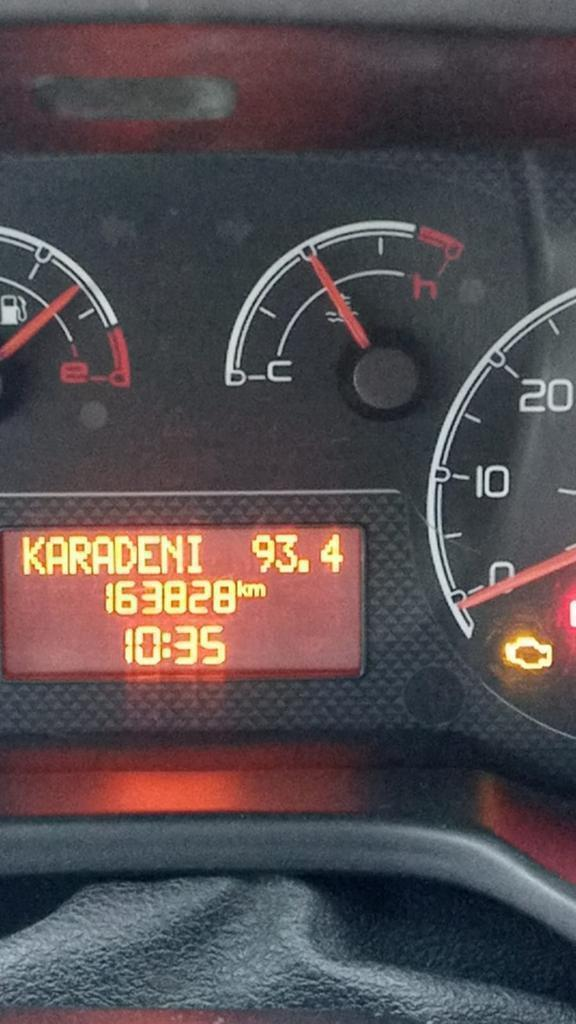,: (297, 555, 311, 576)
0: (134, 624, 159, 666)
1: (122, 624, 133, 667), (102, 582, 112, 618)
2: (188, 578, 211, 614)
3: (274, 530, 297, 576), (174, 622, 197, 666), (141, 580, 162, 616)
4: (319, 533, 348, 578)
5: (199, 624, 224, 667)
6: (114, 579, 137, 616)
8: (212, 578, 235, 615), (164, 579, 187, 615)
9: (252, 532, 275, 574)
X: (21, 534, 45, 577), (45, 533, 68, 576), (136, 534, 160, 575), (69, 533, 91, 576), (160, 533, 183, 574), (114, 534, 136, 575), (92, 533, 112, 576), (185, 534, 205, 575), (161, 629, 172, 661), (247, 582, 266, 599), (236, 578, 246, 600)
odometer: (0, 518, 372, 680)
